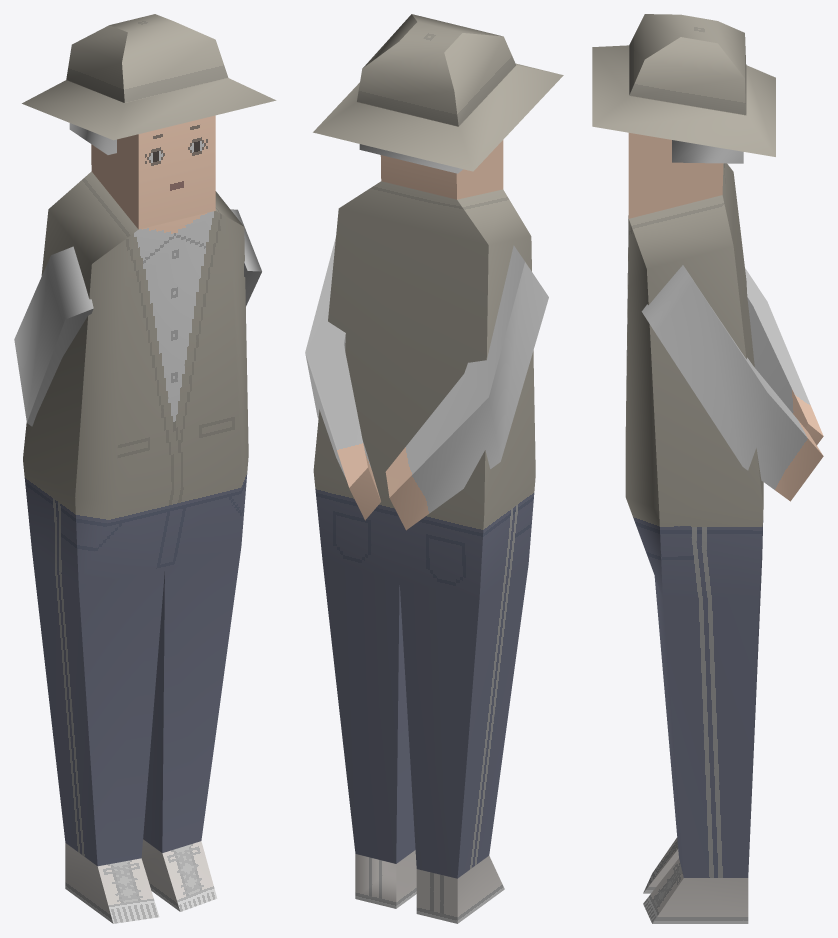
The model's file is 057a_Great_x3_Grandpa.glb.
The picture shows the model from 3 angles, left to right: view 1: azimuth 30°, elevation 25°; view 2: azimuth 150°, elevation 25°; view 3: azimuth 270°, elevation 25°; orthographic projection.
Parts seen in each view (by area): view 1: part_0; view 2: part_0; view 3: part_0.
Part boxes in pixels (x1,y1,x2,y2): part_0: (14,14,276,923); part_0: (305,14,563,923); part_0: (592,14,823,923).
Size of the model in its own units: 0.4661 by 1.98 by 0.4747.
1 material, 1 textured.
